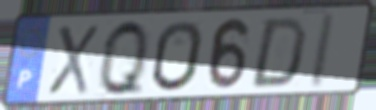6: (206, 15, 253, 93)
D: (247, 15, 310, 90)
I: (305, 11, 339, 92)
O: (150, 18, 205, 93)
Q: (98, 17, 150, 99)
X: (45, 23, 100, 97)
